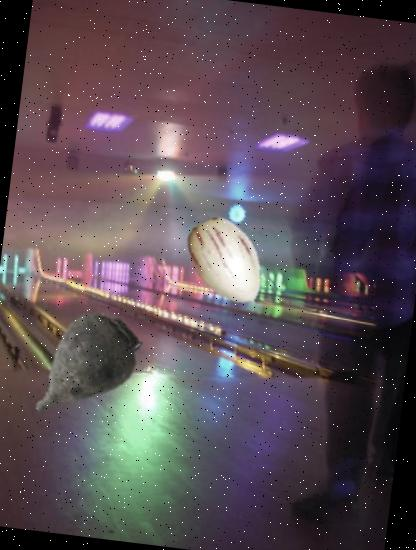Beetroot: (13, 298, 153, 438)
Pepino: (175, 212, 279, 316)
